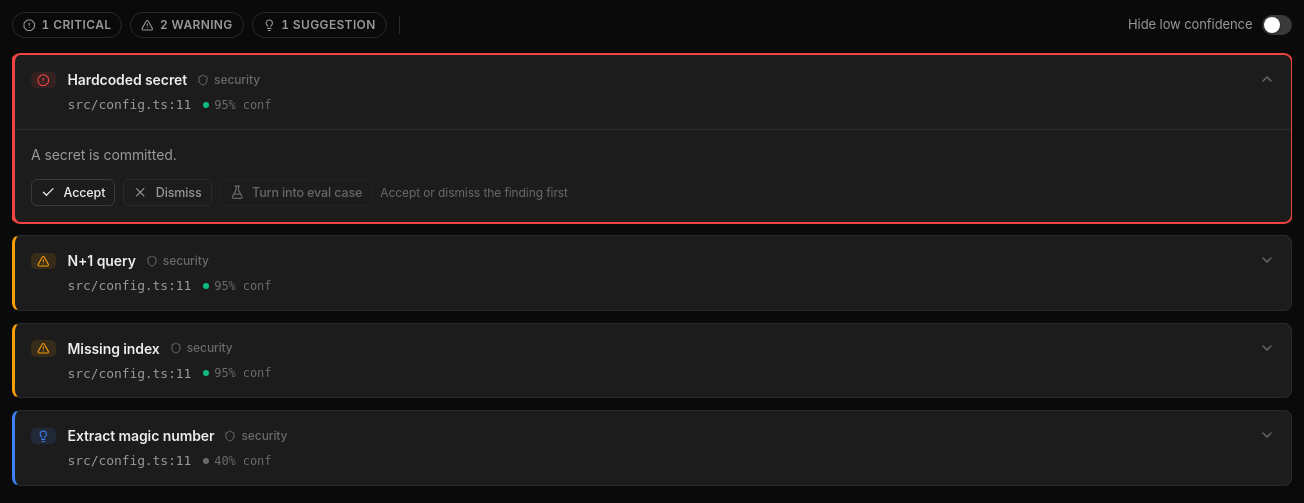
FindingsPanel — severity counters › a pill count equals the number of cards it leaves behind
Click the button "2 WARNING" at {"x": 187, "y": 25}, box [130,12,244,38]
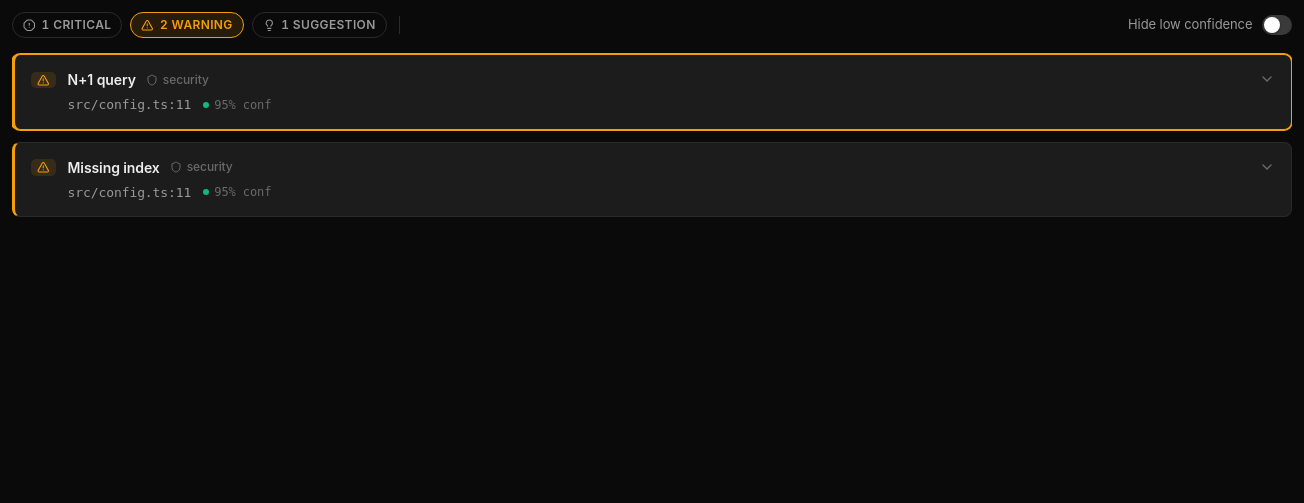
Expected: the text "N+1 query" is shown, [68,69,136,90]
Now the text "Hardcoded secret" is gone
